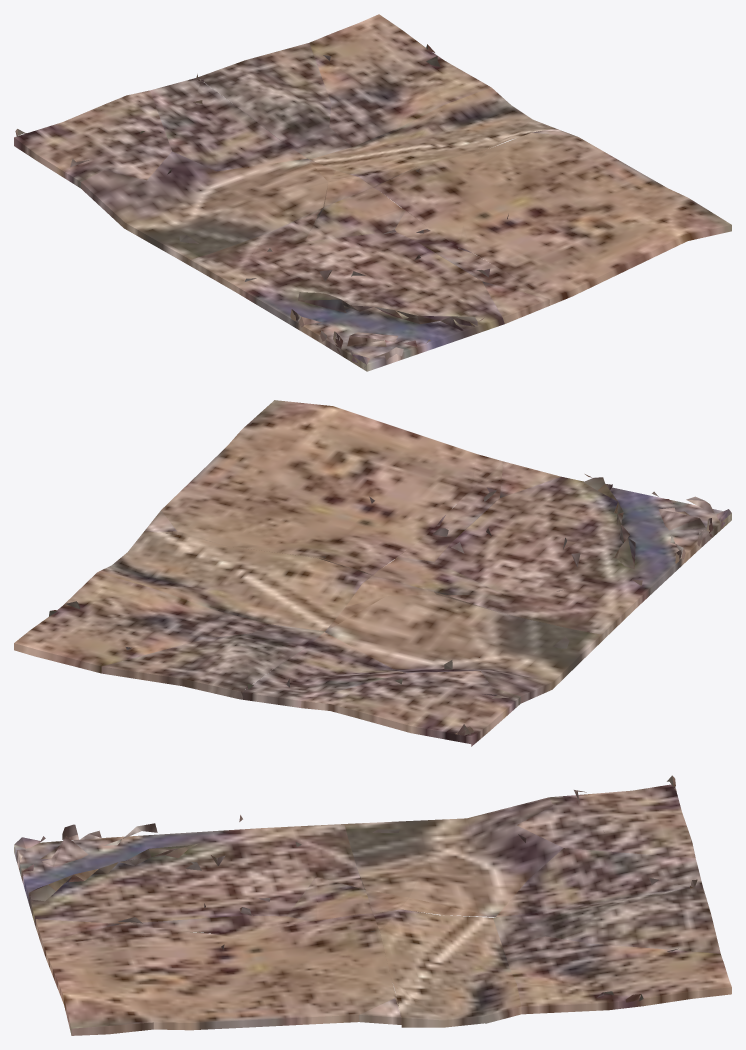
3 renders of one model, top to bottom at view 1: azimuth 30°, elevation 25°; view 2: azimuth 150°, elevation 25°; view 3: azimuth 270°, elevation 25°, orthographic. The views are drawn at different scales.
Parts seen in each view (by area): view 1: Mesh_0; view 2: Mesh_0; view 3: Mesh_0.
Part boxes in pixels (bbox=[...]): Mesh_0: bbox=[14, 14, 731, 371]; Mesh_0: bbox=[14, 400, 731, 746]; Mesh_0: bbox=[14, 775, 731, 1035].
Size of the model in its own units: 532 by 49.47 by 659.
1 material, 1 textured.
